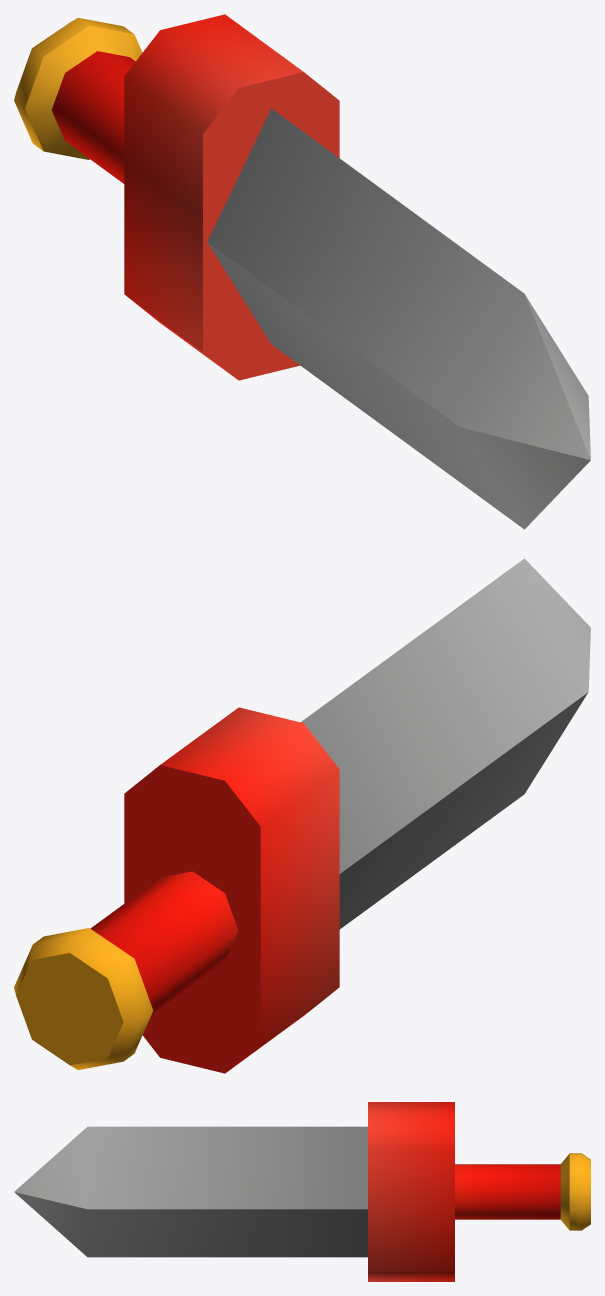
Rendered from Weapon_Sword_01.fbx.
3 views of the same model, one above another, from view 1: azimuth 30°, elevation 25°; view 2: azimuth 150°, elevation 25°; view 3: azimuth 270°, elevation 25° (orthographic). The views are drawn at different scales.
Parts seen in each view (by area): view 1: Weapon_Sword_01; view 2: Weapon_Sword_01; view 3: Weapon_Sword_01.
Part boxes in pixels (x1,y1,x2,y2): Weapon_Sword_01: (14,14,590,529); Weapon_Sword_01: (14,558,590,1073); Weapon_Sword_01: (14,1102,590,1281).
Size of the model in its own units: 20.06 by 41.13 by 133.
